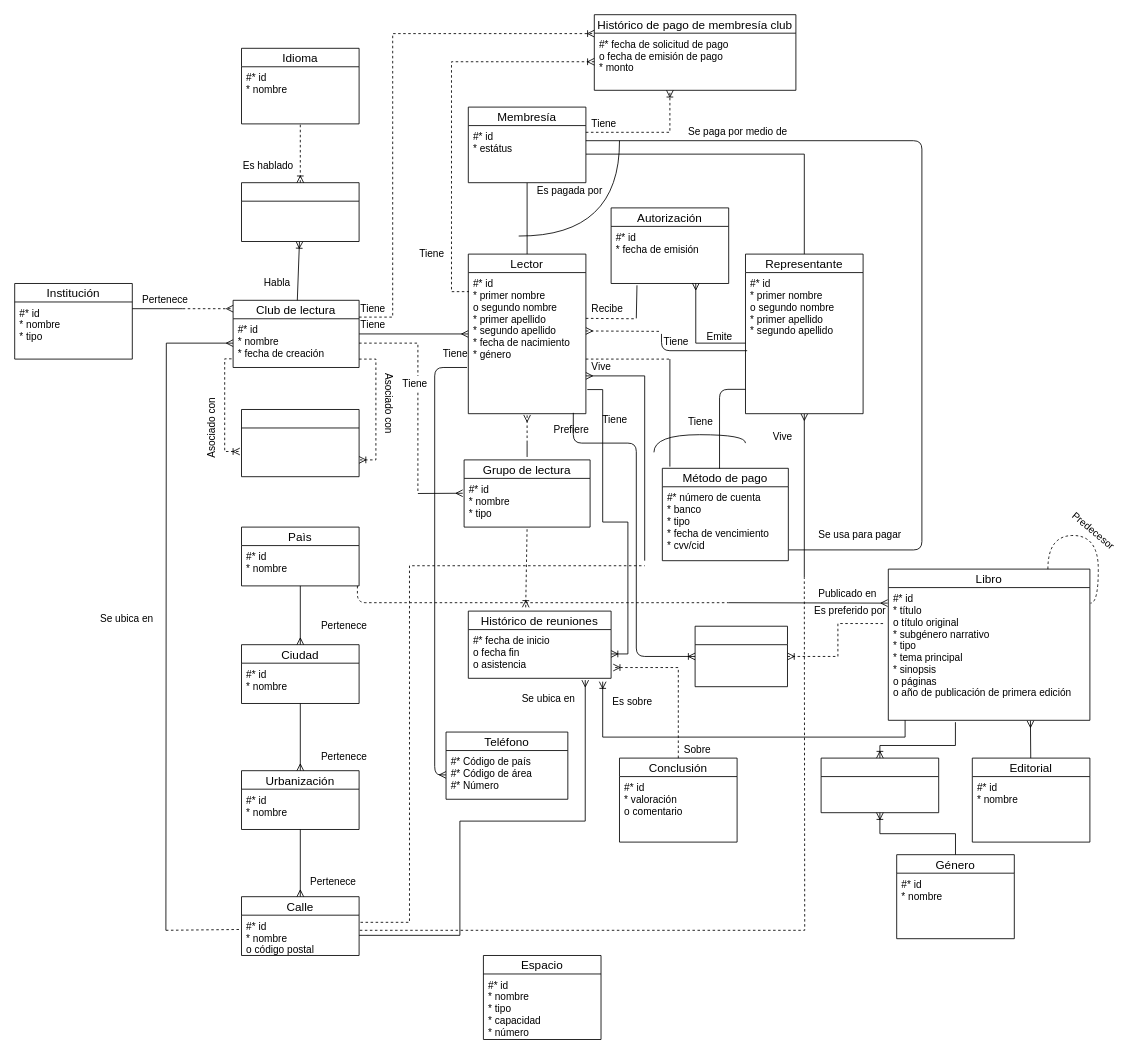
Some shapes in this 1144 by 1057 pixel diagram are drawn without their labels. The centre of each missing label's shape, as x and y in pixels:
C_C: [300,443]
C_I: [300,212]
G_L: [879,785]
L_L: [741,656]
